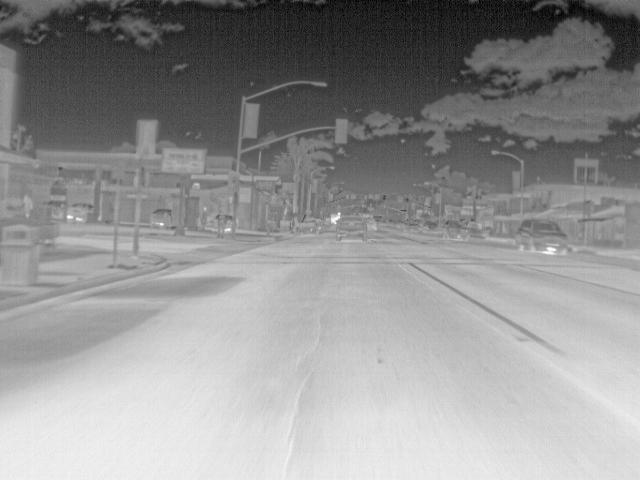car: (515, 216, 570, 256), (334, 213, 368, 239), (442, 218, 471, 241), (66, 203, 94, 223), (43, 200, 67, 220), (152, 208, 175, 228), (295, 218, 319, 236), (214, 214, 236, 232), (422, 220, 443, 236), (469, 221, 487, 239), (403, 218, 422, 234), (364, 214, 380, 230)
person: (21, 193, 34, 219), (214, 212, 228, 233), (198, 208, 211, 229)
